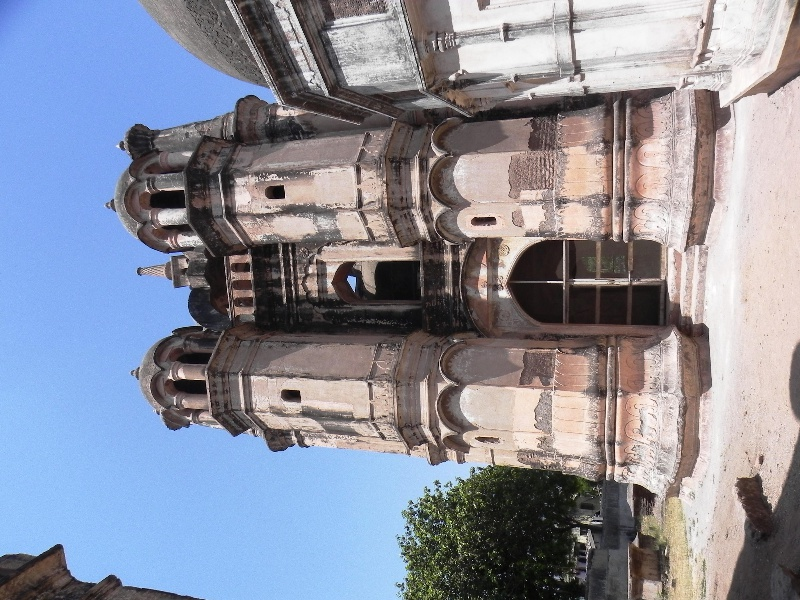Exposed Bricks: (531, 116, 556, 187)
Spalling: (516, 345, 562, 469), (503, 149, 527, 233)
